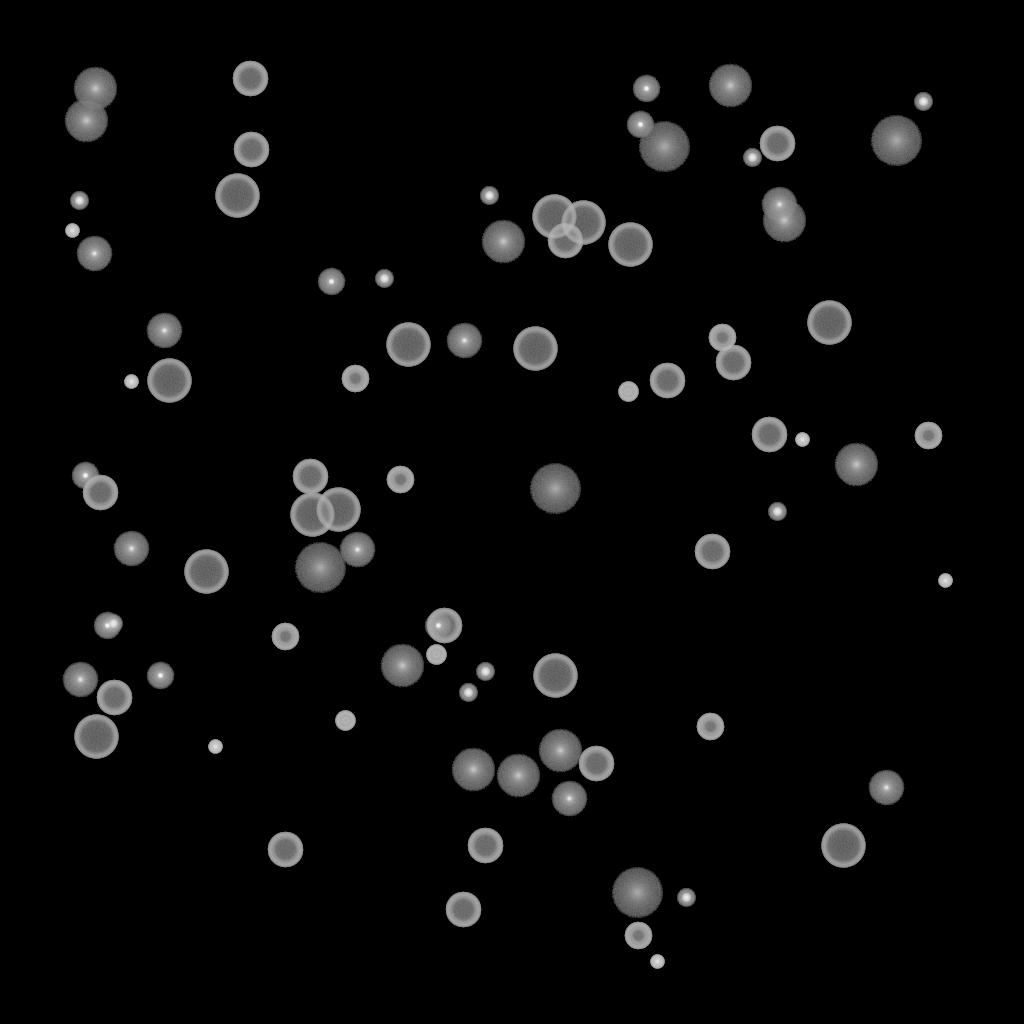depth:-10: (317, 268, 345, 296), (632, 75, 660, 103), (146, 662, 174, 690), (424, 612, 452, 640), (626, 111, 654, 139), (71, 462, 99, 490), (93, 612, 121, 640)
depth:-20: (104, 615, 122, 633), (743, 149, 761, 167), (70, 192, 88, 210), (768, 503, 786, 521), (476, 663, 494, 681), (677, 889, 695, 907), (480, 187, 498, 205), (914, 93, 932, 111), (375, 270, 393, 288), (459, 684, 477, 702)
depth:-30: (938, 574, 952, 588), (124, 375, 138, 389), (795, 433, 809, 447), (650, 955, 664, 969), (65, 224, 79, 238), (208, 740, 222, 754)
depth:-40: (618, 382, 638, 402), (426, 645, 446, 665), (335, 711, 355, 731)
depth:-50: (386, 466, 414, 494), (624, 922, 652, 950), (696, 713, 724, 741), (341, 365, 369, 393), (914, 422, 942, 450), (708, 324, 736, 352), (271, 623, 299, 651)
depth:-60: (649, 363, 685, 399), (96, 680, 132, 716), (694, 534, 730, 570), (547, 223, 583, 259), (233, 132, 269, 168), (715, 345, 751, 381), (759, 126, 795, 162), (751, 417, 787, 453), (292, 459, 328, 495), (426, 608, 462, 644), (445, 892, 481, 928), (267, 832, 303, 868), (82, 475, 118, 511), (467, 828, 503, 864), (232, 61, 268, 97), (578, 746, 614, 782)
depth:-70: (74, 715, 118, 759), (807, 301, 851, 345), (316, 488, 360, 532), (821, 824, 865, 868), (561, 201, 605, 245), (290, 493, 334, 537), (513, 327, 557, 371), (215, 174, 259, 218), (386, 323, 430, 367), (147, 359, 191, 403), (184, 550, 228, 594), (533, 654, 577, 698), (532, 195, 576, 239), (608, 223, 652, 267)
depth:0: (339, 532, 375, 568), (551, 781, 587, 817), (761, 187, 797, 223), (868, 770, 904, 806), (146, 313, 182, 349), (446, 323, 482, 359), (113, 531, 149, 567), (62, 662, 98, 698), (76, 236, 112, 272)
depth:10: (64, 99, 108, 143), (708, 64, 752, 108), (834, 443, 878, 487), (762, 199, 806, 243), (481, 220, 525, 264), (380, 644, 424, 688), (538, 729, 582, 773), (73, 67, 117, 111), (496, 754, 540, 798), (451, 748, 495, 792)
depth:20: (611, 868, 663, 918), (638, 122, 690, 172), (529, 464, 581, 514), (870, 116, 922, 166), (294, 543, 346, 593)
